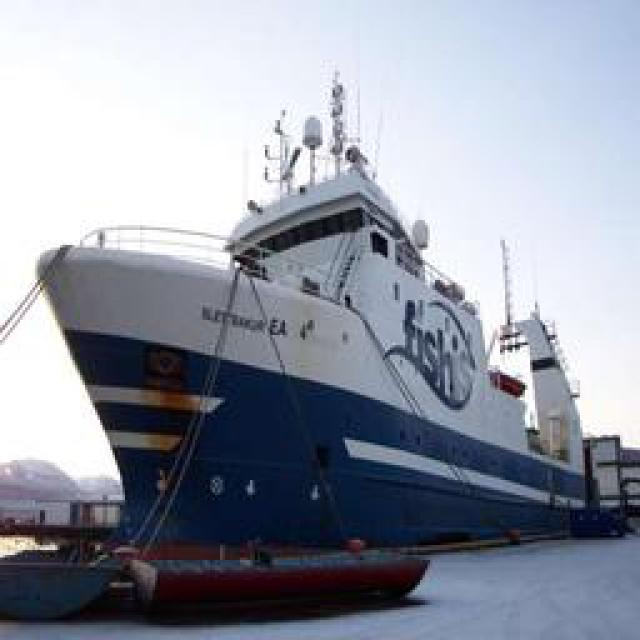Ship: (19, 69, 619, 604)
